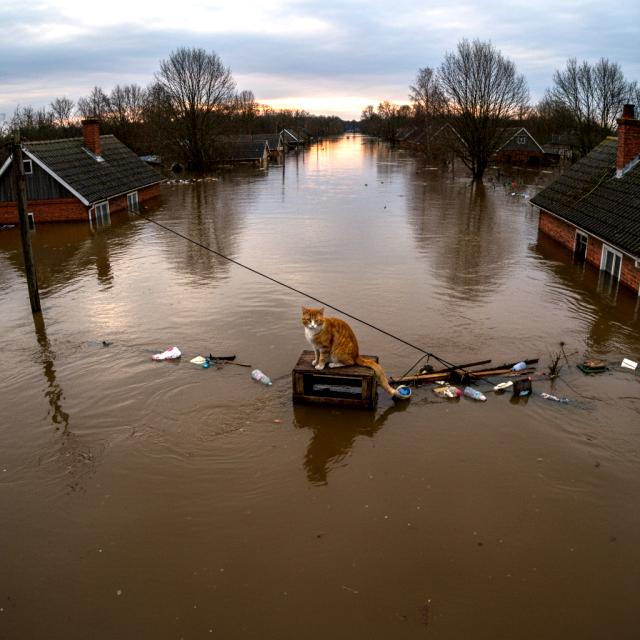cat: (293, 301, 403, 400)
